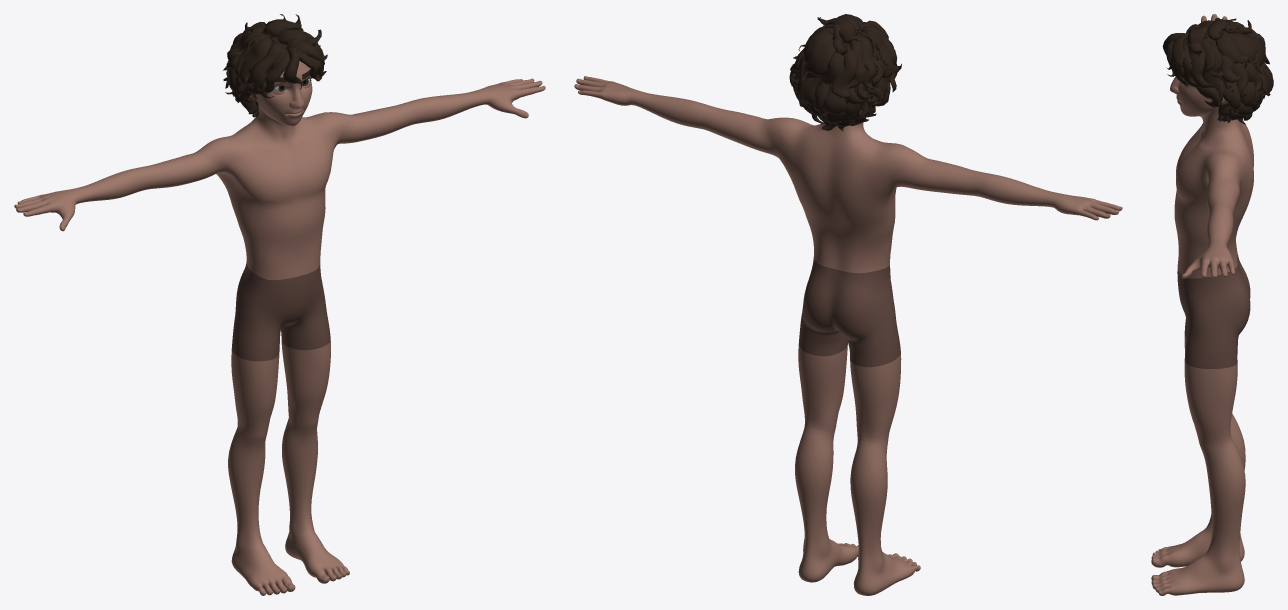
Rendered from biped_base_model.fbx.
3 views of the same model, side by side, from view 1: azimuth 30°, elevation 25°; view 2: azimuth 150°, elevation 25°; view 3: azimuth 270°, elevation 25° (orthographic). The views are drawn at different scales.
Parts seen in each view (by area): view 1: body_geo, hair_proxy; view 2: body_geo, hair_proxy; view 3: body_geo, hair_proxy.
Boxes of the visible parts, x1,y1,x2,y2 form: body_geo: (14,61,545,595); hair_proxy: (223,14,327,117); body_geo: (574,76,1122,595); hair_proxy: (789,14,901,131); body_geo: (1151,14,1253,595); hair_proxy: (1162,17,1273,124).
Size of the model in its own units: 179 by 177 by 35.23.
